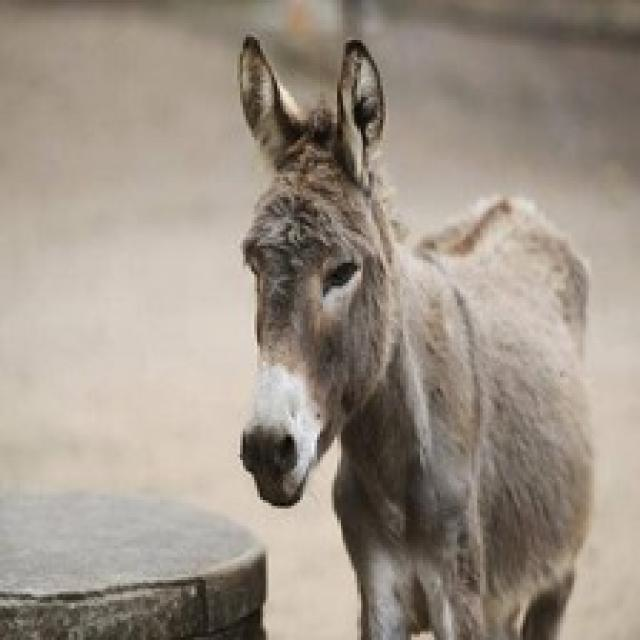Donkey: (235, 32, 594, 638)
